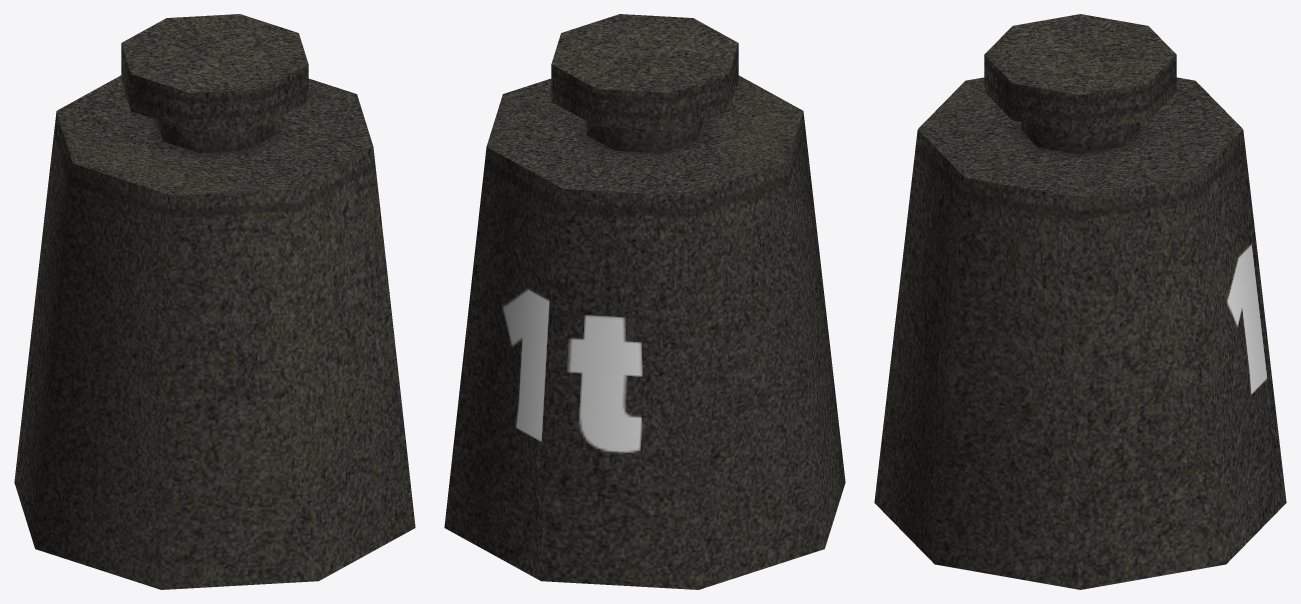
File: Weight1t.fbx
3 views of the same model, side by side, from view 1: azimuth 30°, elevation 25°; view 2: azimuth 150°, elevation 25°; view 3: azimuth 270°, elevation 25° (orthographic).
Visible parts, largest first — view 1: Empty_Mesh; view 2: Empty_Mesh; view 3: Empty_Mesh.
Boxes of the visible parts, x1,y1,x2,y2 form: Empty_Mesh: [14, 14, 415, 589]; Empty_Mesh: [444, 14, 845, 589]; Empty_Mesh: [874, 14, 1286, 589].
Bounding box in the file's own units: 0.5 × 0.6 × 0.5.
